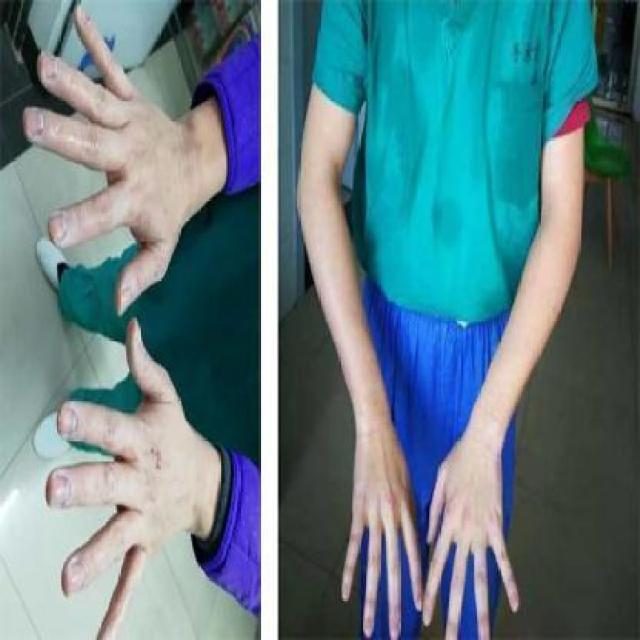hand_noglove: (46, 316, 209, 638), (22, 1, 189, 312), (423, 444, 523, 638), (340, 434, 422, 638)
